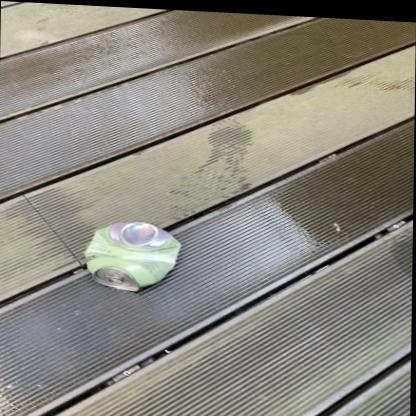trash: (85, 222, 180, 290)
